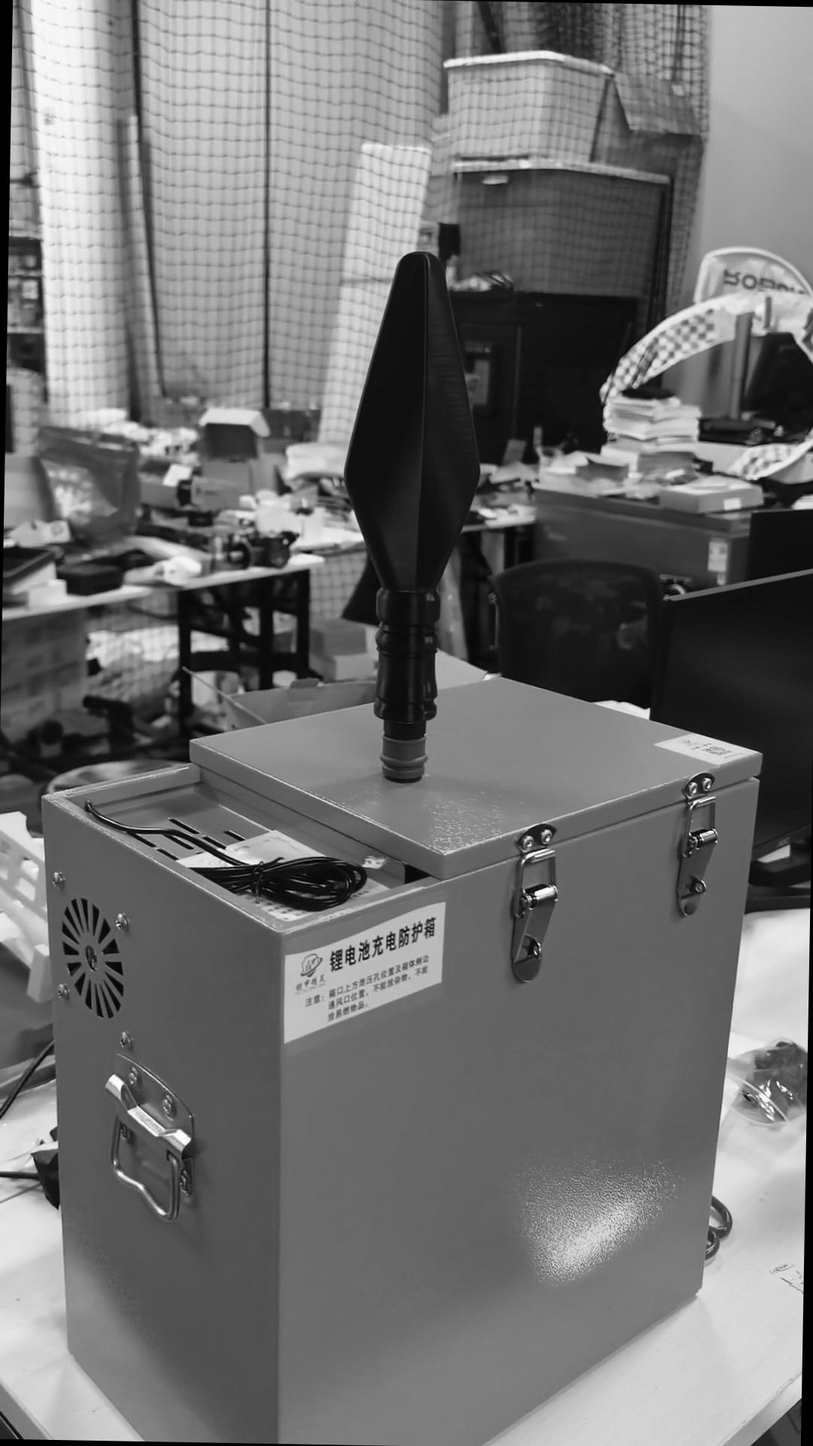base: (379, 730, 429, 784)
